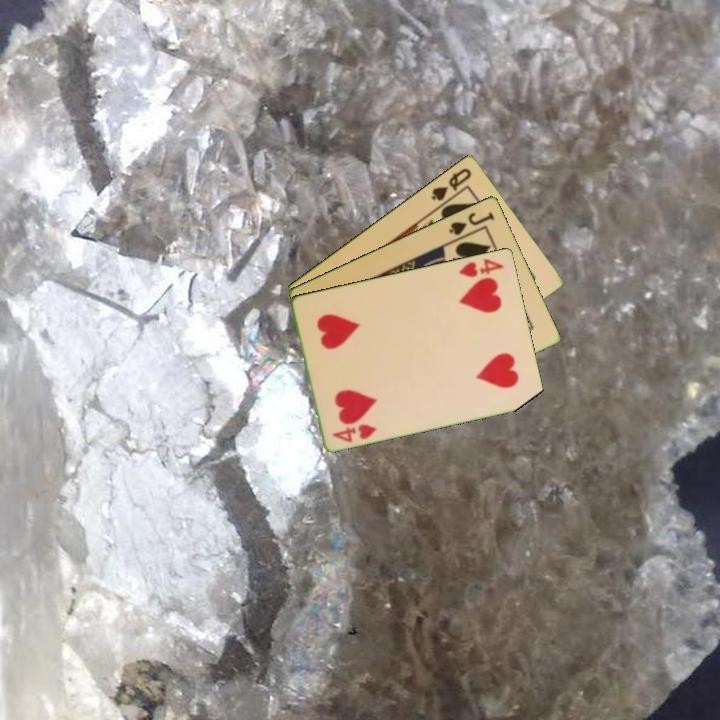4h: (455, 255, 507, 280), (329, 420, 380, 445)
Js: (445, 208, 498, 238)
Qs: (428, 164, 474, 203)
